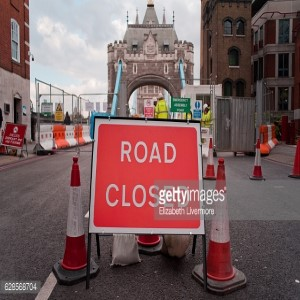traffic cone: (192, 158, 248, 297), (52, 157, 100, 286), (249, 139, 266, 181), (202, 138, 218, 181), (288, 137, 300, 179)
